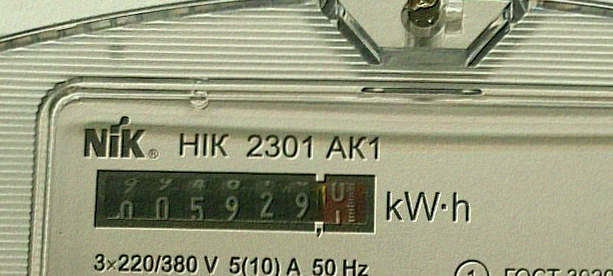0: (153, 194, 172, 222), (116, 196, 137, 219), (329, 180, 348, 203)
2: (257, 189, 276, 222)
5: (188, 194, 206, 222)
9: (221, 193, 242, 223), (293, 190, 312, 222), (121, 176, 139, 194)
screen: (88, 163, 383, 243)
